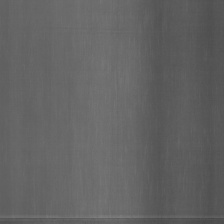welding_line: (0, 212, 224, 222)
